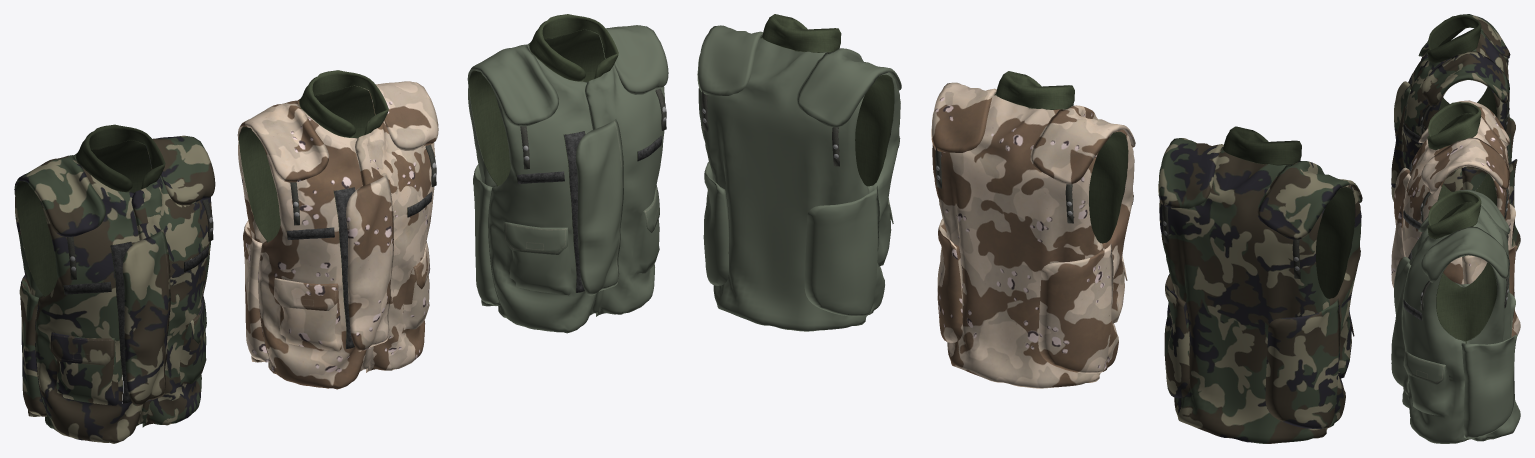
File: body_armor__flak_jacket_remaster_pack.glb
3 renders of one model, left to right at view 1: azimuth 30°, elevation 25°; view 2: azimuth 150°, elevation 25°; view 3: azimuth 270°, elevation 25°, orthographic. The views are drawn at different scales.
Parts seen in each view (by area): view 1: flack jacket_low.005, flack jacket_low, flack jacket_low.008, pockets_low.011, pockets_low.006, pockets_low, flack jacket_low.004, flack jacket_low.001, flack jacket_low.007, flack jacket_low.002, flack jacket_low.006, flack jacket_low.003; view 2: flack jacket_low.005, flack jacket_low, flack jacket_low.008, pockets_low, pockets_low.006, pockets_low.011, flack jacket_low.004, flack jacket_low.001, flack jacket_low.007, flack jacket_low.006, flack jacket_low.003, flack jacket_low.002; view 3: pockets_low.006, flack jacket_low.005, pockets_low, pockets_low.011, flack jacket_low, flack jacket_low.004, flack jacket_low.008, flack jacket_low.006, flack jacket_low.003, flack jacket_low.002, flack jacket_low.001, flack jacket_low.007.
Boxes of the visible parts, x1=… form: flack jacket_low.005: x1=468, y1=32, x2=664, y2=333; flack jacket_low: x1=238, y1=88, x2=435, y2=389; flack jacket_low.008: x1=15, y1=143, x2=211, y2=443; pockets_low.011: x1=14, y1=135, x2=215, y2=416; pockets_low.006: x1=467, y1=25, x2=668, y2=305; pockets_low: x1=237, y1=81, x2=438, y2=362; flack jacket_low.004: x1=469, y1=29, x2=662, y2=292; flack jacket_low.001: x1=239, y1=85, x2=432, y2=348; flack jacket_low.007: x1=15, y1=140, x2=208, y2=403; flack jacket_low.002: x1=299, y1=70, x2=388, y2=137; flack jacket_low.006: x1=76, y1=124, x2=165, y2=192; flack jacket_low.003: x1=529, y1=14, x2=618, y2=81; flack jacket_low.005: x1=698, y1=35, x2=900, y2=331; flack jacket_low: x1=932, y1=92, x2=1134, y2=388; flack jacket_low.008: x1=1159, y1=148, x2=1361, y2=443; pockets_low: x1=931, y1=82, x2=1135, y2=373; pockets_low.006: x1=697, y1=25, x2=901, y2=316; pockets_low.011: x1=1158, y1=138, x2=1362, y2=428; flack jacket_low.004: x1=760, y1=36, x2=900, y2=186; flack jacket_low.001: x1=994, y1=93, x2=1133, y2=243; flack jacket_low.007: x1=1316, y1=187, x2=1360, y2=298; flack jacket_low.006: x1=1223, y1=126, x2=1301, y2=165; flack jacket_low.003: x1=762, y1=14, x2=841, y2=52; flack jacket_low.002: x1=996, y1=71, x2=1074, y2=109; pockets_low.006: x1=1391, y1=189, x2=1517, y2=438; flack jacket_low.005: x1=1402, y1=206, x2=1520, y2=443; pockets_low: x1=1391, y1=100, x2=1517, y2=321; pockets_low.011: x1=1391, y1=14, x2=1517, y2=236; flack jacket_low: x1=1402, y1=117, x2=1520, y2=336; flack jacket_low.004: x1=1403, y1=202, x2=1496, y2=439; flack jacket_low.008: x1=1402, y1=30, x2=1520, y2=250; flack jacket_low.006: x1=1427, y1=15, x2=1481, y2=63; flack jacket_low.003: x1=1427, y1=191, x2=1481, y2=238; flack jacket_low.002: x1=1427, y1=102, x2=1481, y2=149; flack jacket_low.001: x1=1403, y1=113, x2=1496, y2=229; flack jacket_low.007: x1=1403, y1=26, x2=1496, y2=144.
Bounding box in the file's own units: 1.85 × 0.7828 × 0.4182.
3 materials, 3 textured.
